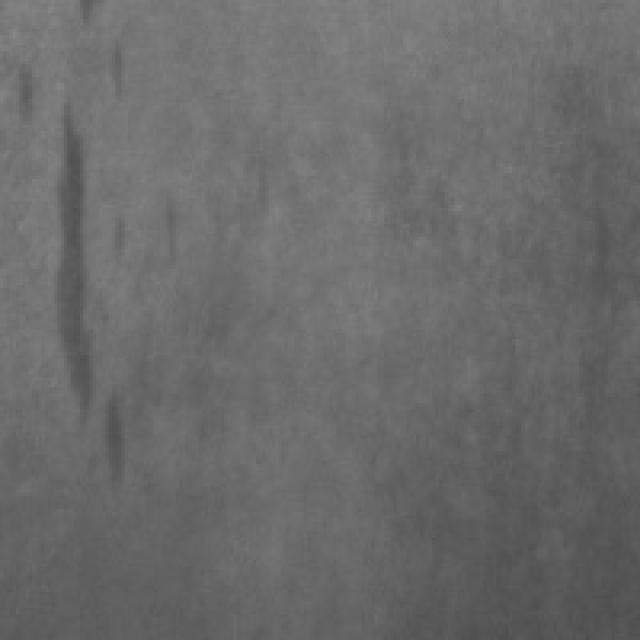inclusion: (42, 80, 163, 490)
